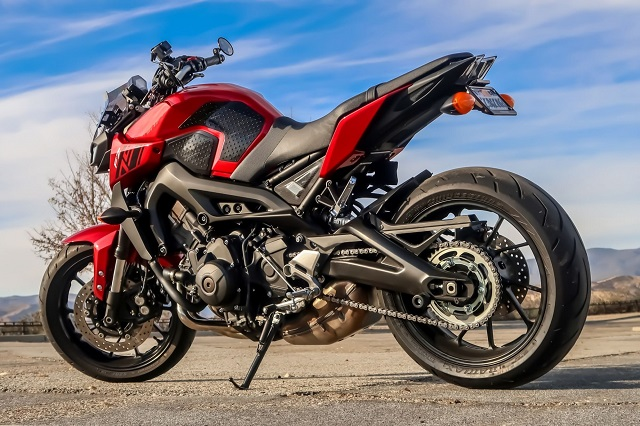bike: (41, 35, 590, 388)
